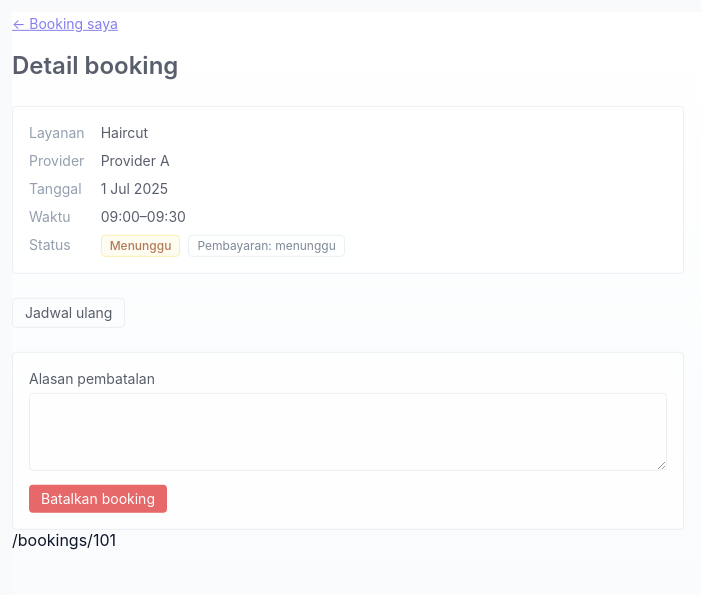
Test case: BookingDetailPage › cancels a booking with a reason and shows the cancelled status
Expected: the element with test id "booking-status" shows "Menunggu", x1=110 y1=238 x2=171 y2=253
Click the button "Batalkan booking".
click(98, 499)  # box x1=29 y1=485 x2=167 y2=513
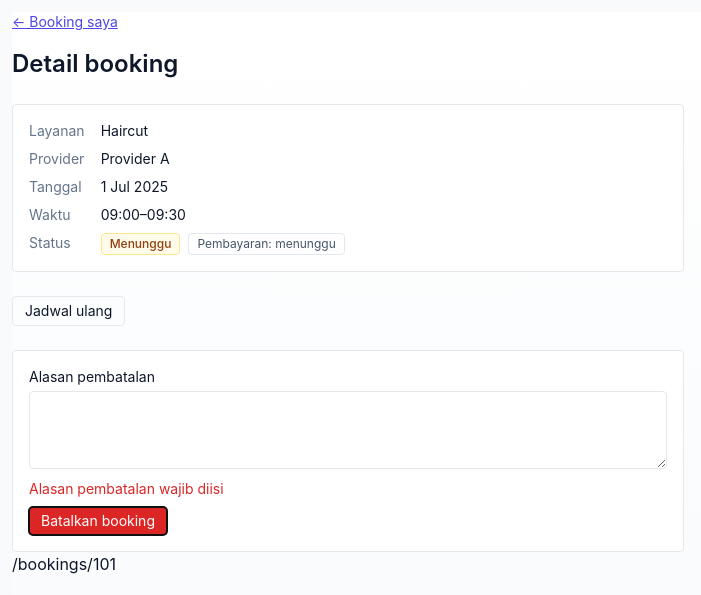
Result: the text "Alasan pembatalan wajib diisi" is shown at x1=29 y1=480 x2=224 y2=497
Type "Berhalangan" into the text box labelled "Alasan pembatalan".
click(348, 430); type("Berhalangan")  # box x1=29 y1=391 x2=667 y2=469
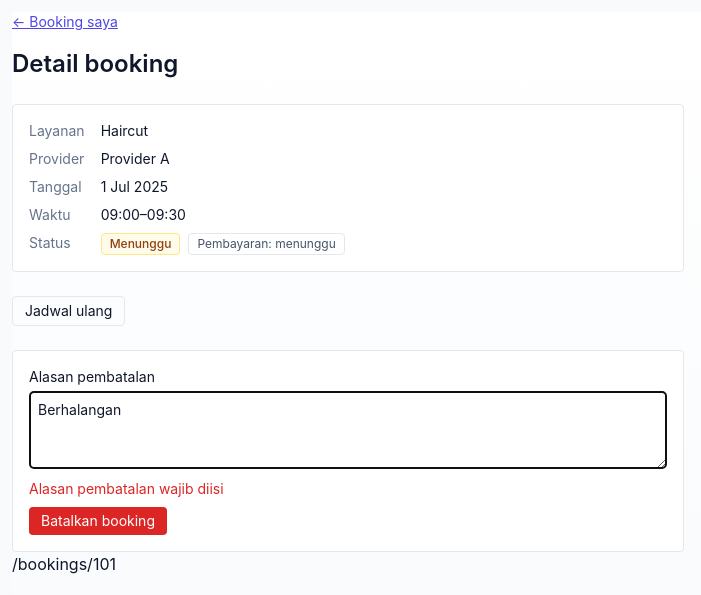
Click the button "Batalkan booking".
click(98, 521)  # box x1=29 y1=507 x2=167 y2=535
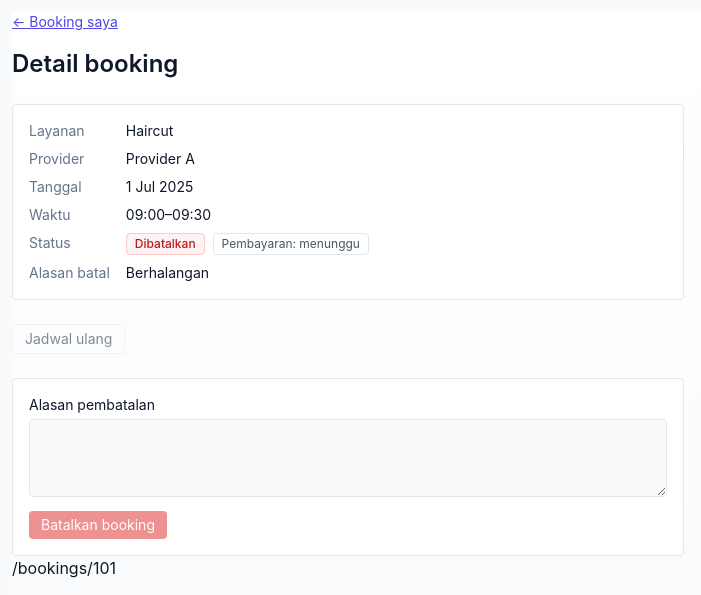
Result: the element with test id "booking-status" shows "Dibatalkan" at x1=135 y1=236 x2=196 y2=251
Result: the text "Berhalangan" is shown at x1=126 y1=264 x2=209 y2=281
Result: the button "Batalkan booking" is disabled at x1=29 y1=511 x2=167 y2=539
